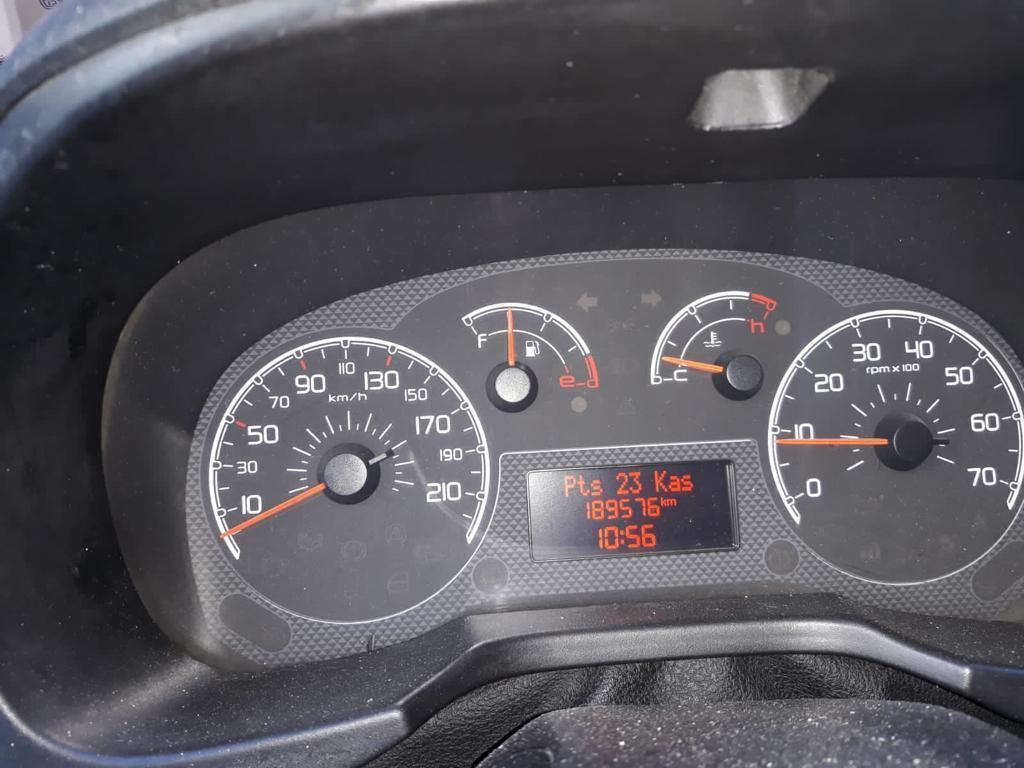0: (603, 525, 618, 549)
1: (597, 527, 603, 548), (585, 501, 591, 519)
2: (615, 472, 629, 495)
3: (628, 471, 642, 494)
5: (625, 524, 641, 548), (618, 498, 632, 518)
6: (640, 523, 657, 547), (647, 496, 660, 516)
7: (634, 497, 646, 516)
8: (591, 499, 604, 519)
9: (604, 499, 618, 519)
X: (654, 469, 668, 492), (576, 474, 590, 496), (563, 474, 576, 497), (590, 479, 603, 496), (668, 475, 681, 492), (681, 474, 693, 491), (619, 529, 625, 544), (667, 498, 676, 506), (660, 496, 667, 506)
odometer: (525, 457, 740, 563)
